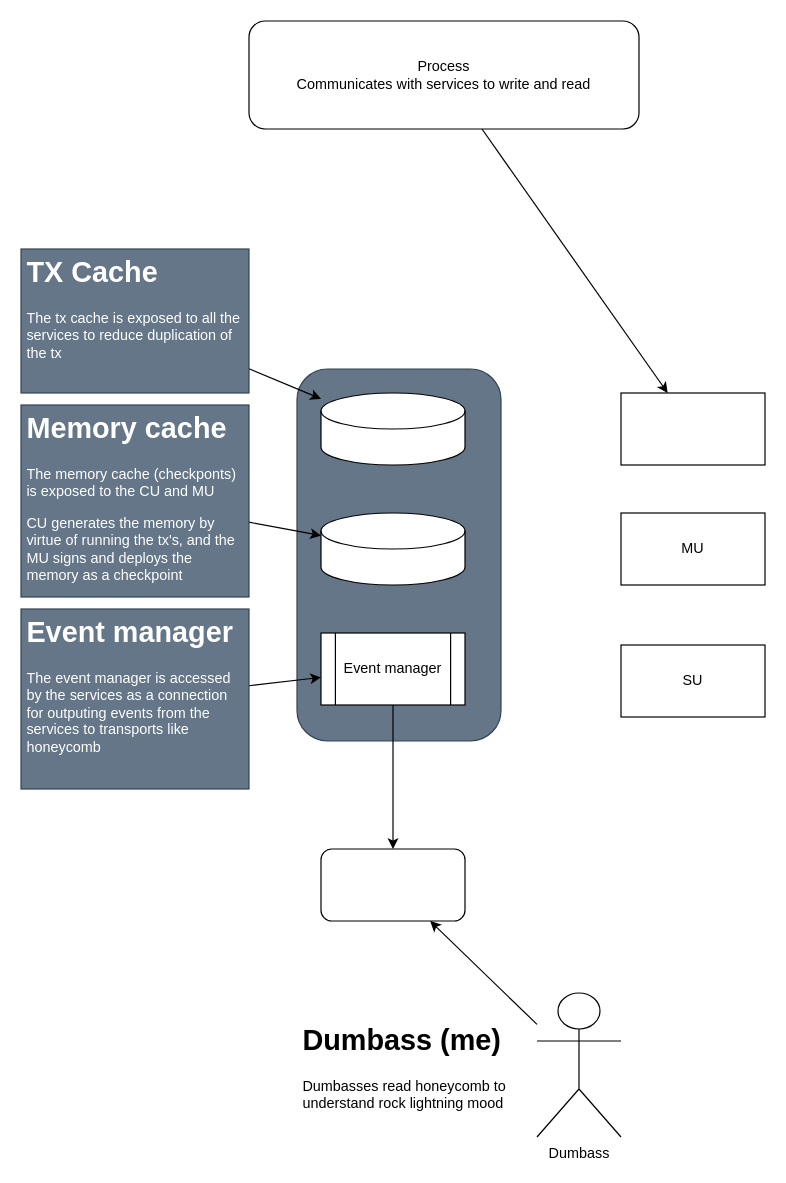
The diagram is 786 pixels wide and 1183 high, and some of its shapes have lost their labels. The shapes that lost their labels are listed below. From the top down, each one's centre as x and y in pixels, then its label:
At [392,428]: "TX cache".
At [692,428]: "CU".
At [392,548]: "Memory cache".
At [392,884]: "Honey comb".
